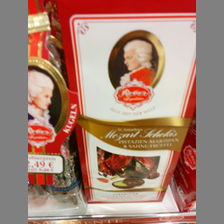chocolate: (56, 1, 197, 203)
